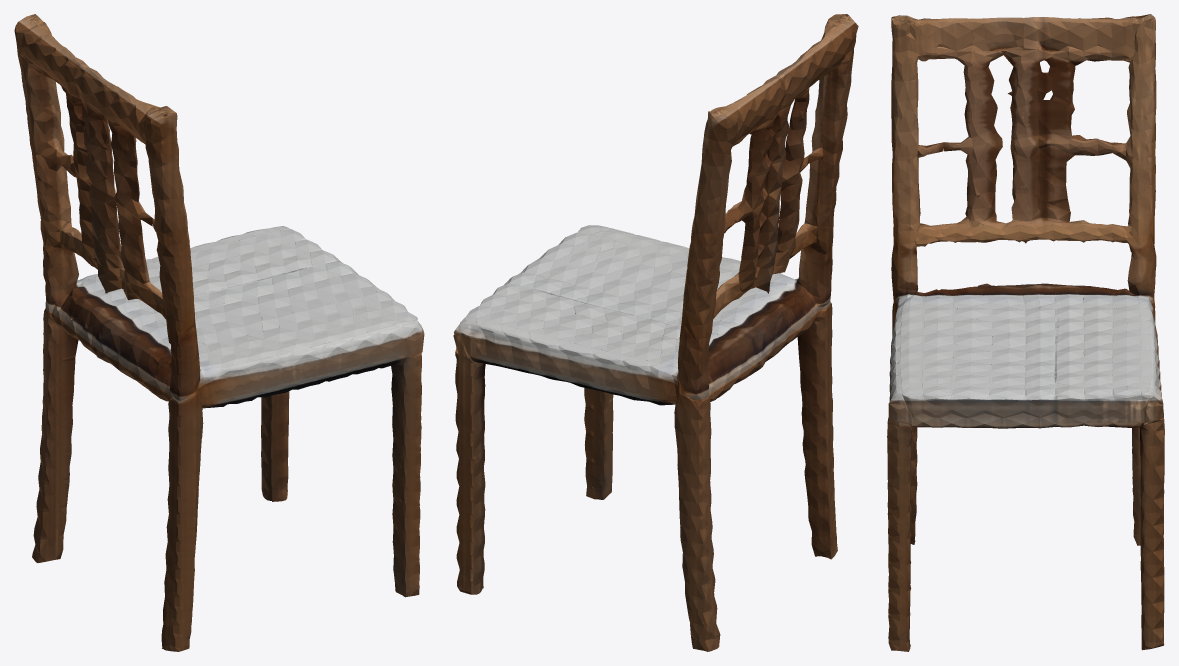
Rendered from elem_94_131_206_213_4_2.obj.
3 views of the same model, side by side, from view 1: azimuth 30°, elevation 25°; view 2: azimuth 150°, elevation 25°; view 3: azimuth 270°, elevation 25° (orthographic). The views are drawn at different scales.
Bounding box in the file's own units: 0.3845 × 0.7093 × 0.3439.
1 material, 1 textured.
